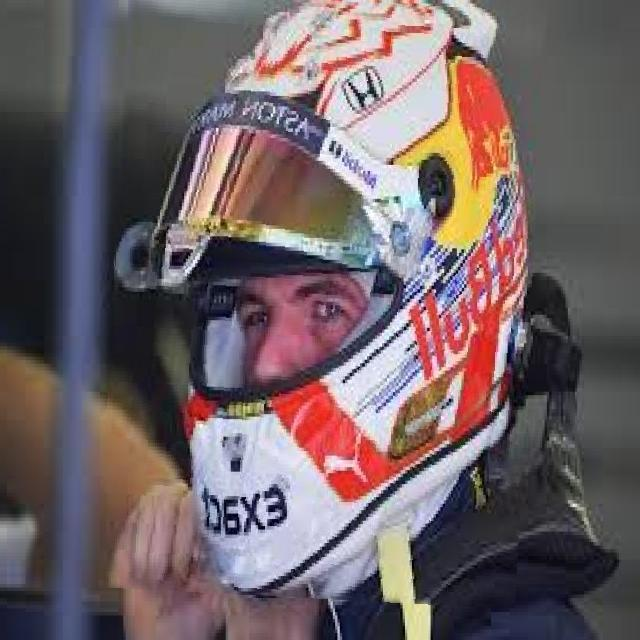helmet: (106, 0, 539, 603)
